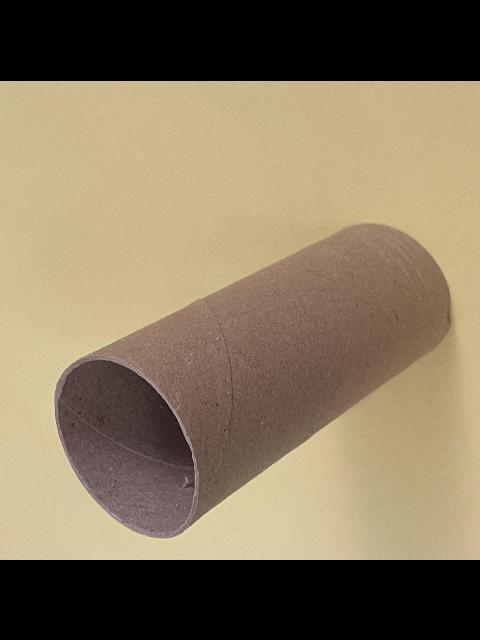tissueroll: (51, 222, 451, 538)
